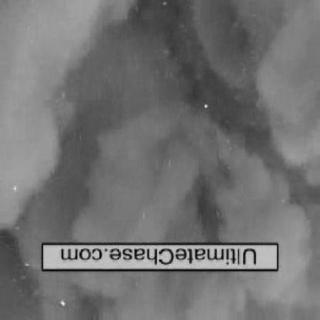Smoke: (6, 11, 316, 245), (55, 277, 313, 319)
